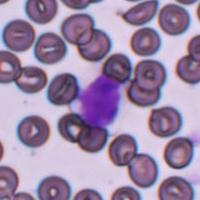L: (80, 71, 120, 129)
